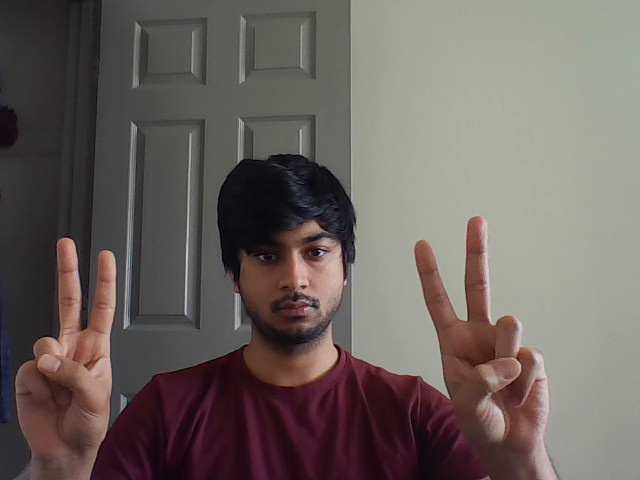two: (403, 212, 506, 356), (48, 228, 120, 358)
